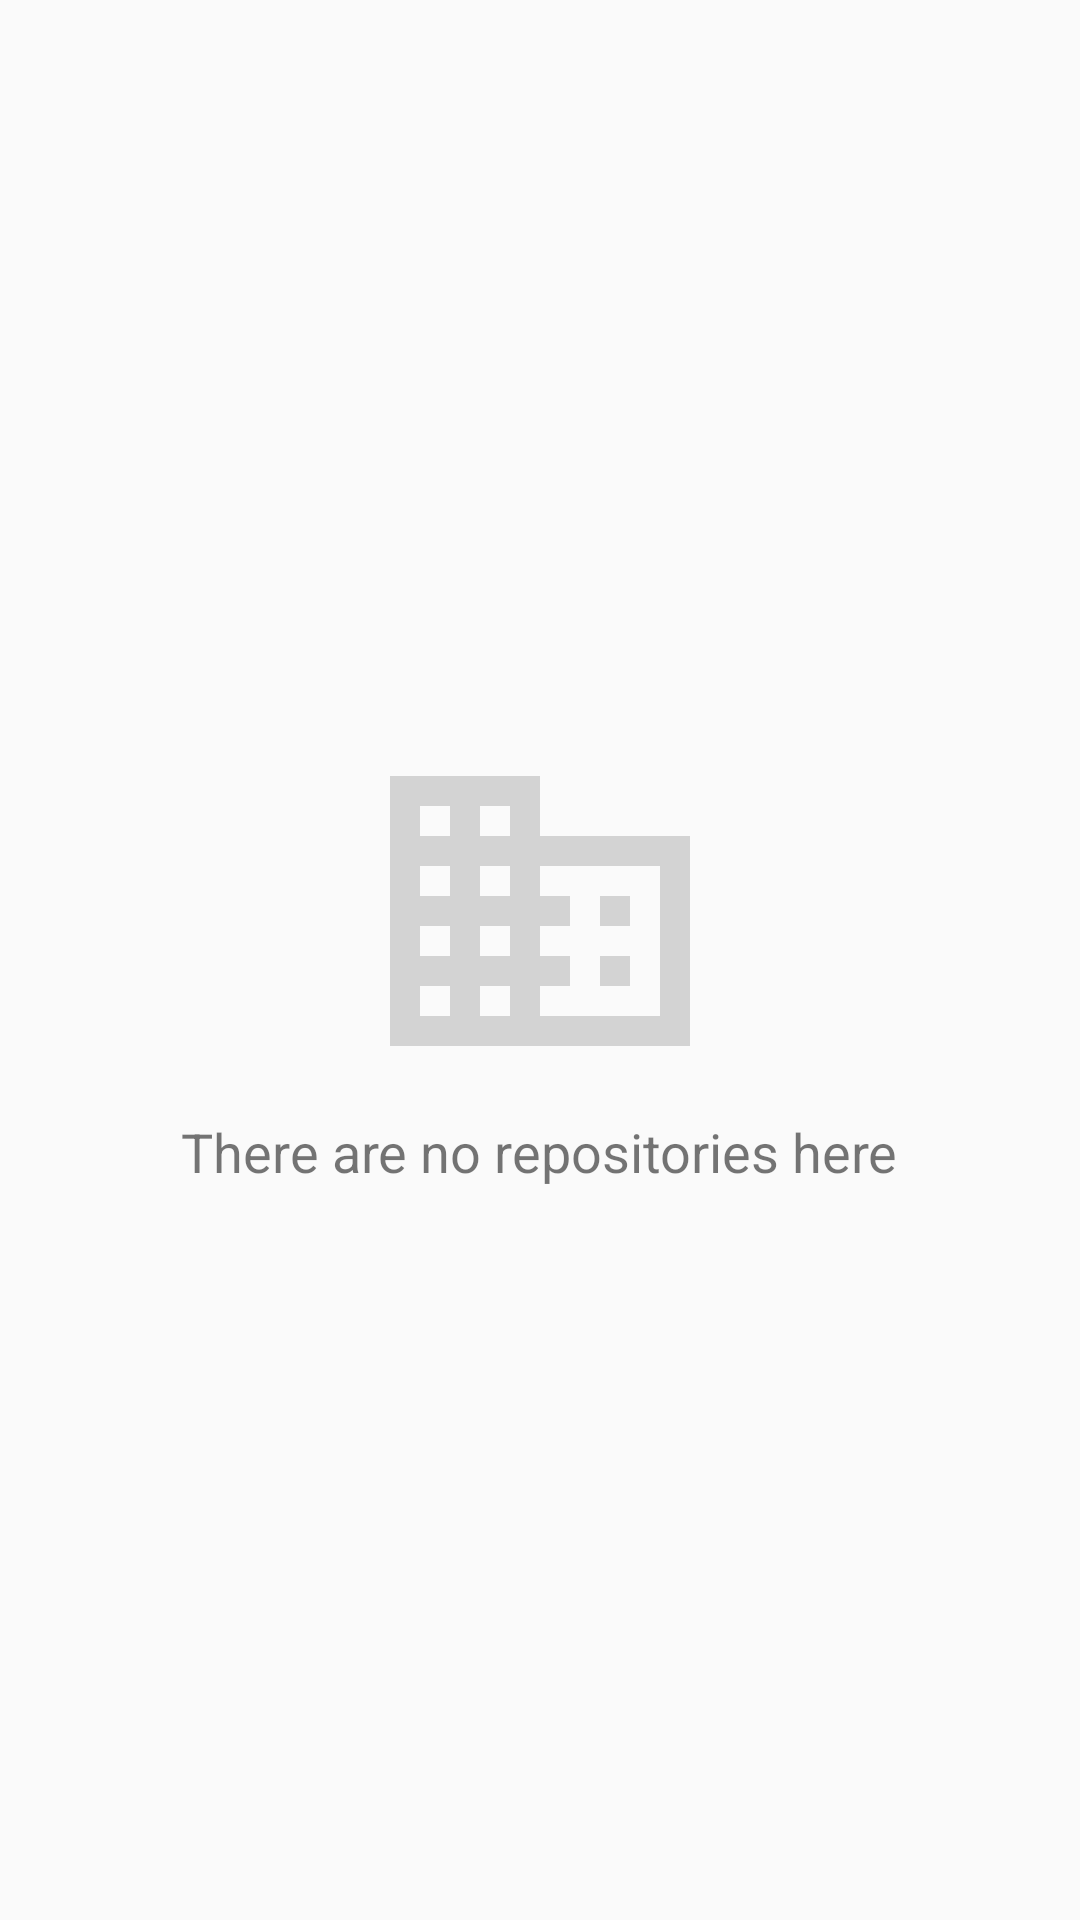

Icon click points for this 1080px×1920px phone screenshot, format [x,y]:
social domain: [540,911]
